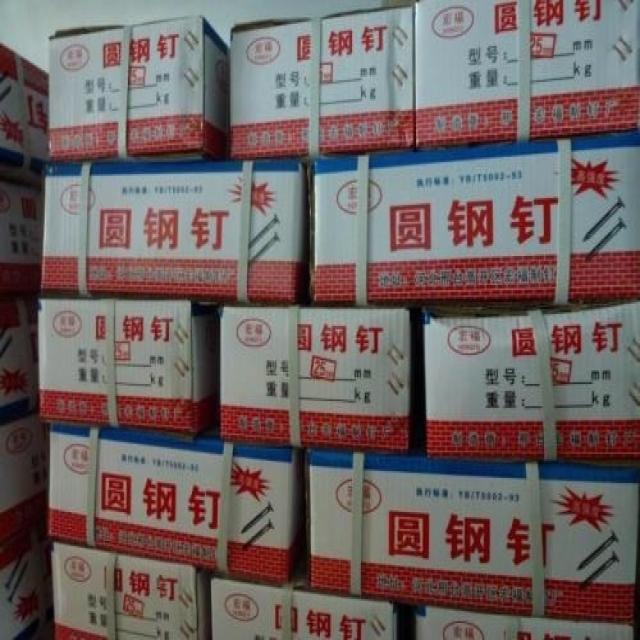Carton: (221, 309, 639, 630), (234, 0, 637, 150), (312, 135, 639, 304), (41, 157, 296, 304), (49, 425, 288, 575), (49, 19, 229, 160), (36, 302, 188, 433), (51, 548, 196, 638), (209, 579, 393, 638)
